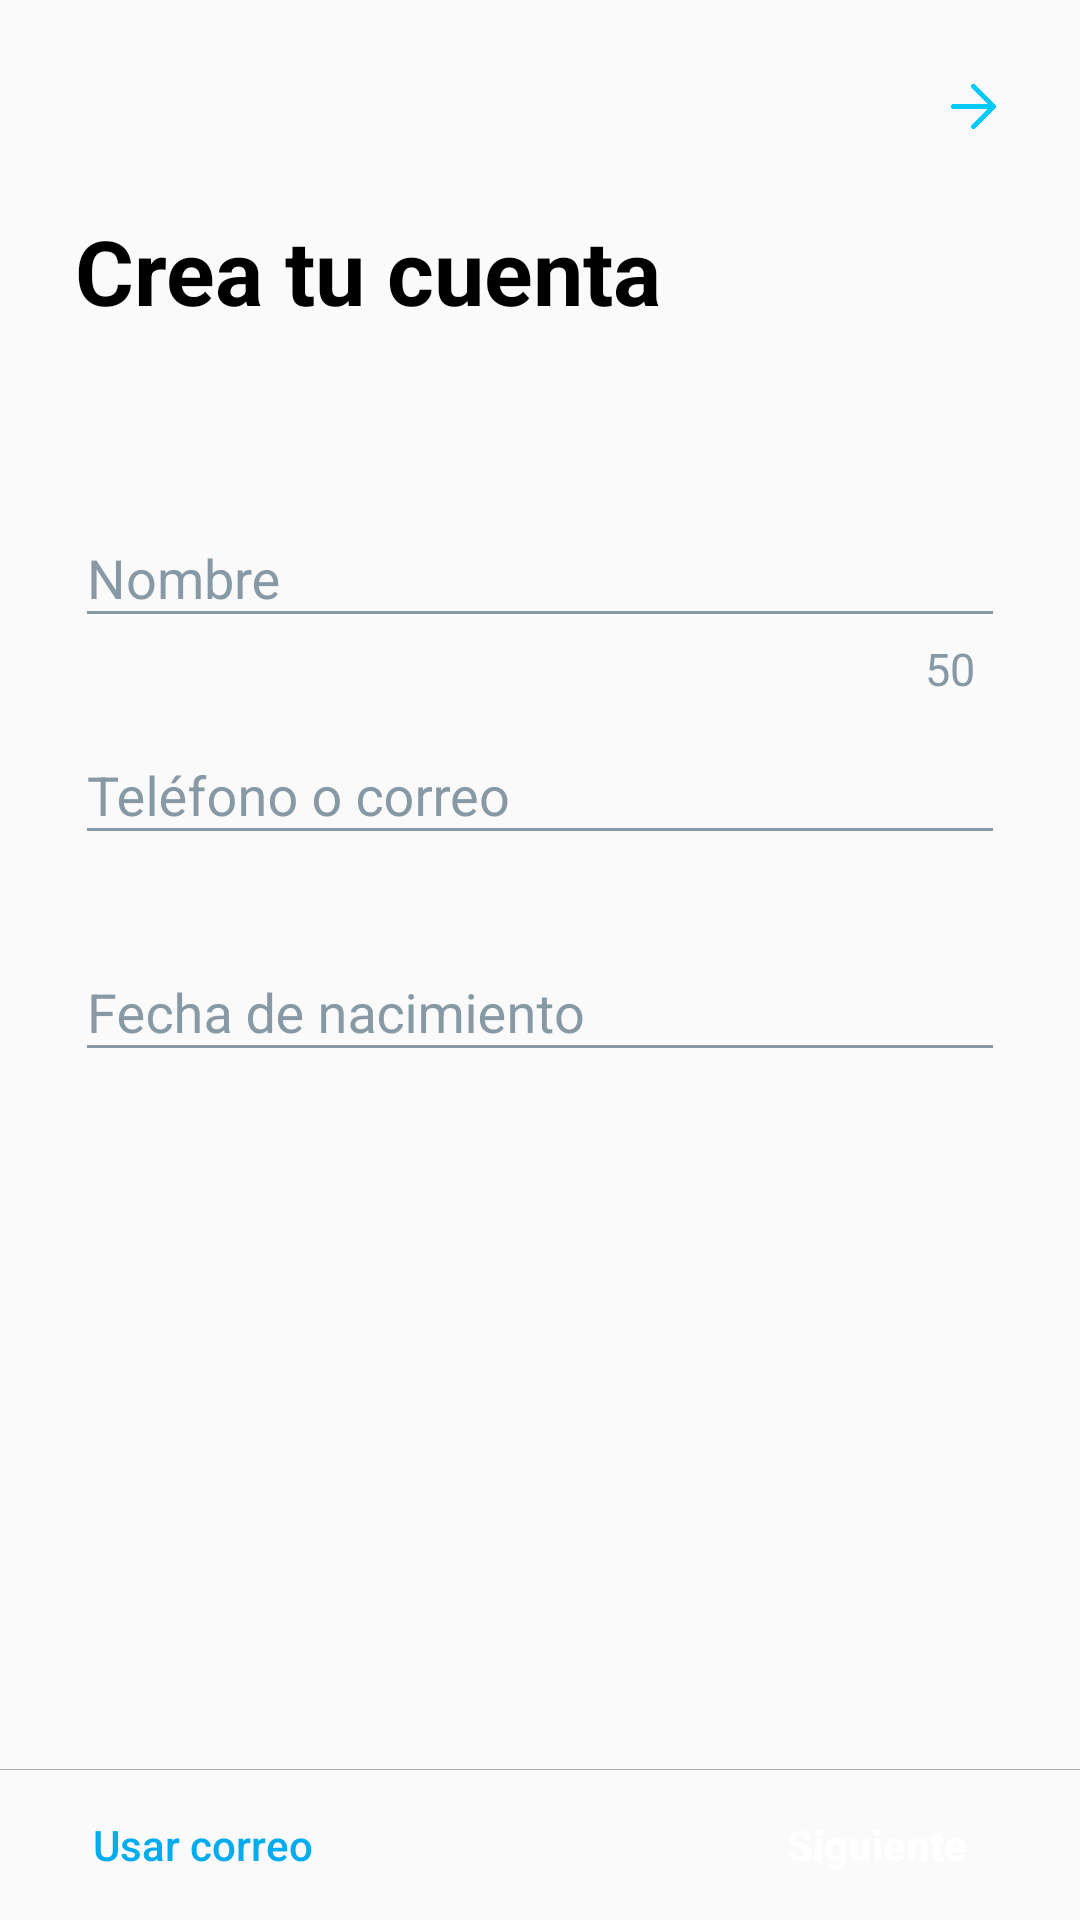

Icons on this 1080 × 1920 Android screen, each with the point to tap as [x,y]:
rightarrow: [973,106]
